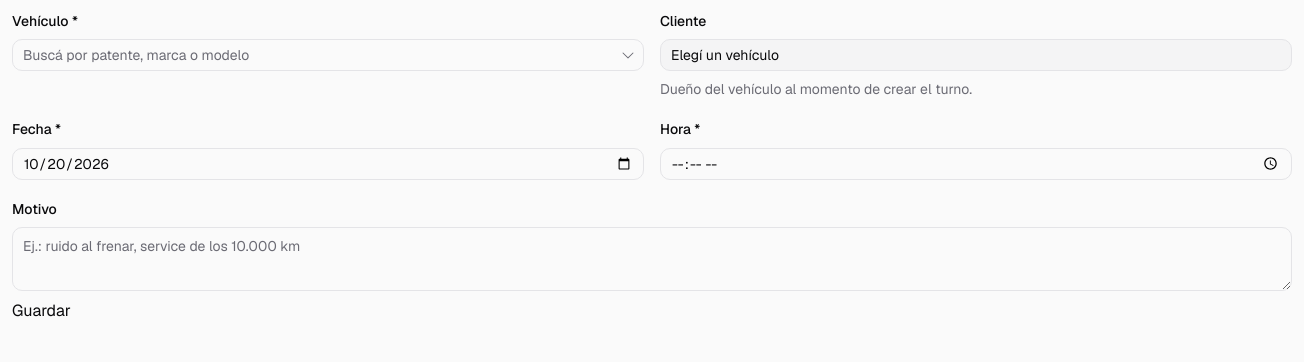
Test: AppointmentForm validation › tells a vehicle typed but not chosen from an empty field
Type "fia" into the dropdown labelled "Vehículo *" at (314,55), box x1=13 y1=39 x2=616 y2=71
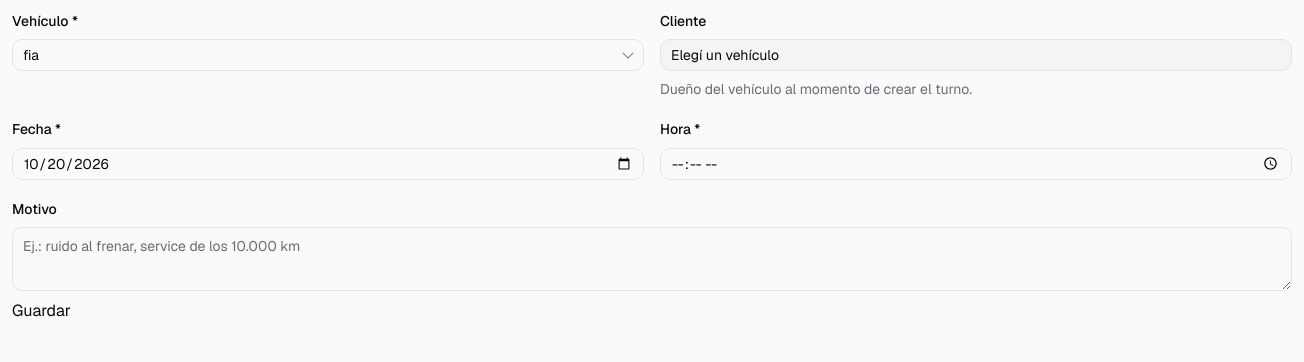
Note: The open list hides the rest of the page from the accessibility tree: submit the form itself.
Submit the form with id "form"
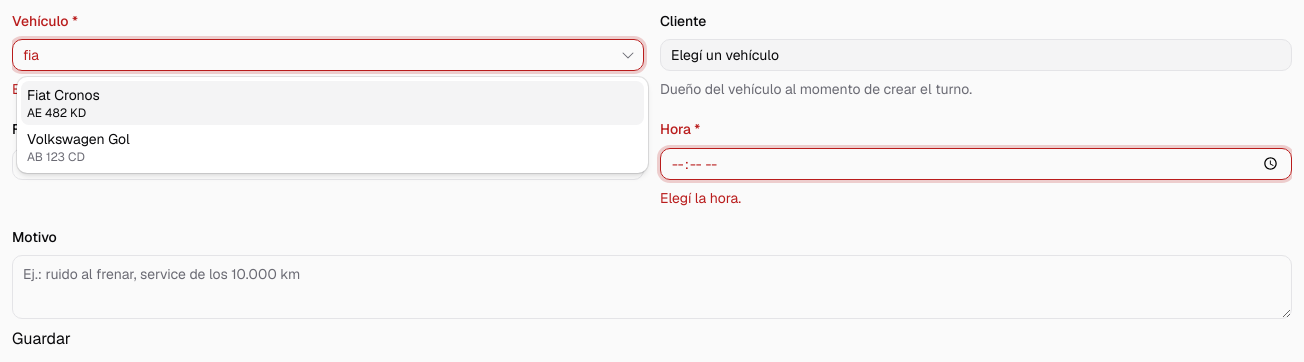
Expected: the text "Elegí un vehículo de la lista." is shown, x1=12 y1=80 x2=188 y2=98
